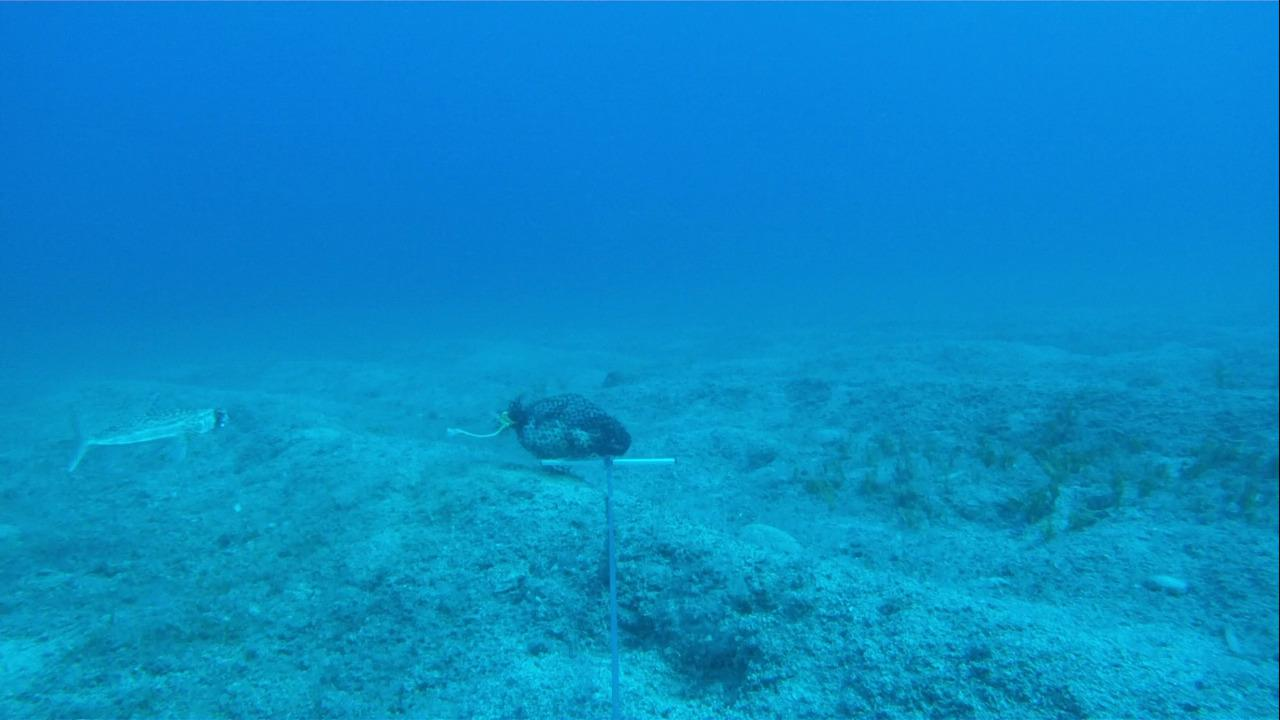dactylopterus: (48, 398, 230, 476)
